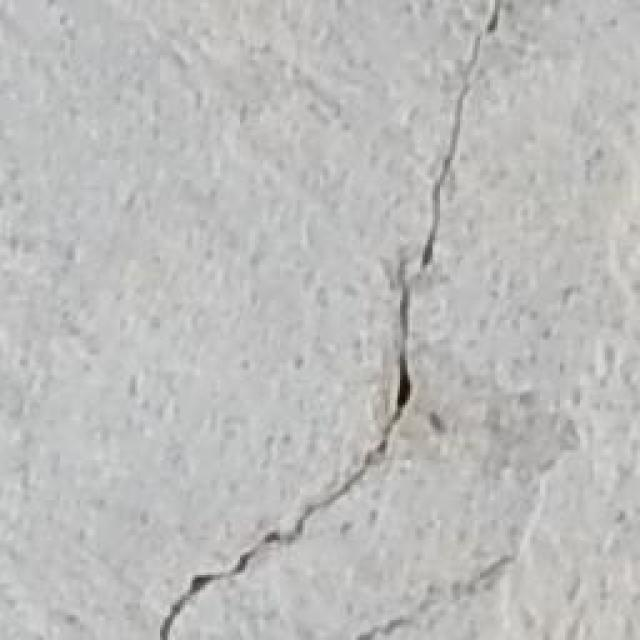concrete-crack: (147, 2, 516, 636)
